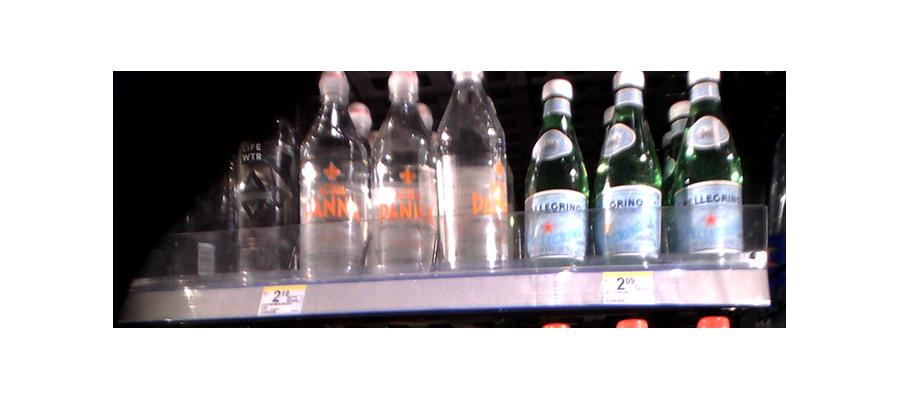bottle: (433, 68, 514, 272), (296, 76, 370, 281), (672, 84, 747, 268), (369, 71, 435, 269), (597, 69, 664, 264), (224, 109, 297, 283), (524, 82, 589, 268)
